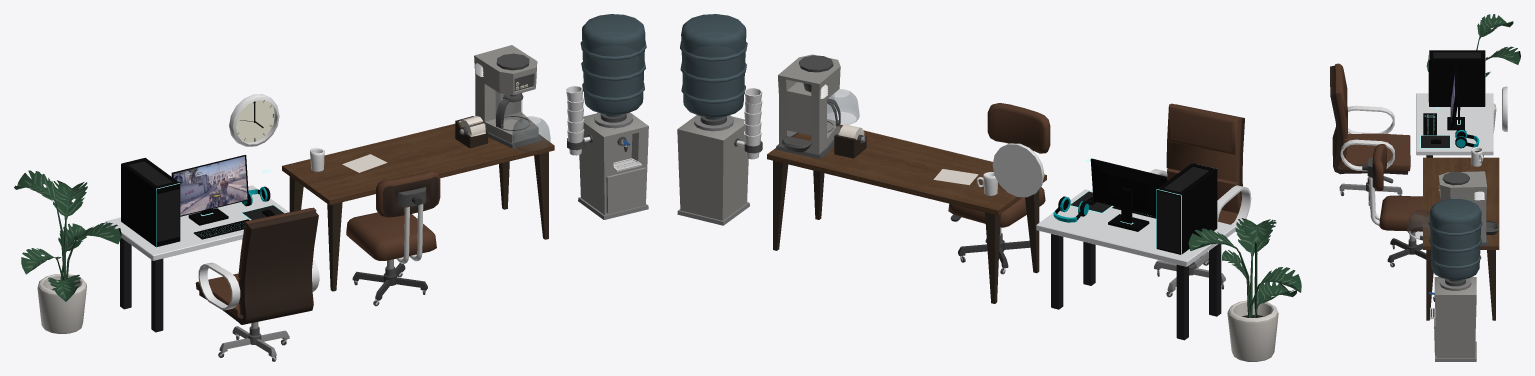
3 renders of one model, left to right at view 1: azimuth 30°, elevation 25°; view 2: azimuth 150°, elevation 25°; view 3: azimuth 270°, elevation 25°, orthographic. The views are drawn at different scales.
Visible parts, largest first — view 1: Cube.023, Cube.020, Cube.021, Cube.004, Cylinder.003, Cube.015, table_2, cpu_6, monitor_3, Cylinder, Cube.019; view 2: Cube.023, Cube.020, table_2, Cube.021, Cube.015, Cylinder.003, cpu_6, Cube.004, monitor_3, Cylinder, Cube.019; view 3: Cube.023, Cube.021, Cube.020, Cube.004, cpu_6, table_2, Cube.015, Cylinder.003, monitor_3, Plane_9, headset_7, keyboard_4 (+2 smaller).
Boxes of the visible parts, x1,y1,x2,y2 form: Cube.023: [566, 14, 648, 219]; Cube.020: [282, 123, 554, 291]; Cube.021: [195, 207, 319, 361]; Cube.004: [346, 170, 440, 306]; Cylinder.003: [14, 170, 121, 333]; Cube.015: [474, 45, 550, 152]; table_2: [105, 185, 288, 332]; cpu_6: [121, 157, 180, 247]; monitor_3: [171, 155, 248, 225]; Cylinder: [229, 94, 279, 146]; Cube.019: [455, 116, 487, 148]; Cube.023: [677, 14, 762, 225]; Cube.020: [767, 124, 1046, 303]; table_2: [1036, 189, 1235, 340]; Cube.021: [1149, 103, 1251, 297]; Cube.015: [775, 54, 859, 159]; Cylinder.003: [1188, 218, 1301, 361]; cpu_6: [1156, 163, 1217, 254]; Cube.004: [948, 103, 1050, 274]; monitor_3: [1090, 158, 1167, 231]; Cylinder: [992, 143, 1044, 197]; Cube.019: [834, 124, 866, 158]; Cube.023: [1428, 199, 1482, 361]; Cube.021: [1330, 63, 1410, 208]; Cube.020: [1423, 157, 1499, 320]; Cube.004: [1362, 144, 1426, 267]; cpu_6: [1428, 50, 1485, 106]; table_2: [1416, 93, 1493, 157]; Cube.015: [1407, 171, 1498, 245]; Cylinder.003: [1426, 14, 1520, 132]; monitor_3: [1447, 66, 1464, 130]; Plane_9: [1420, 135, 1450, 148]; headset_7: [1455, 129, 1479, 148]; keyboard_4: [1423, 113, 1436, 135].
Bounding box in the file's own units: 6.86 × 2.04 × 2.31.
30 materials, 4 textured.
